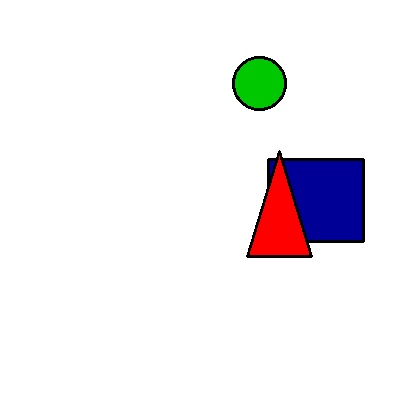circle: (219, 57, 299, 109)
rectangle: (268, 159, 363, 241)
triangle: (247, 151, 311, 256)
